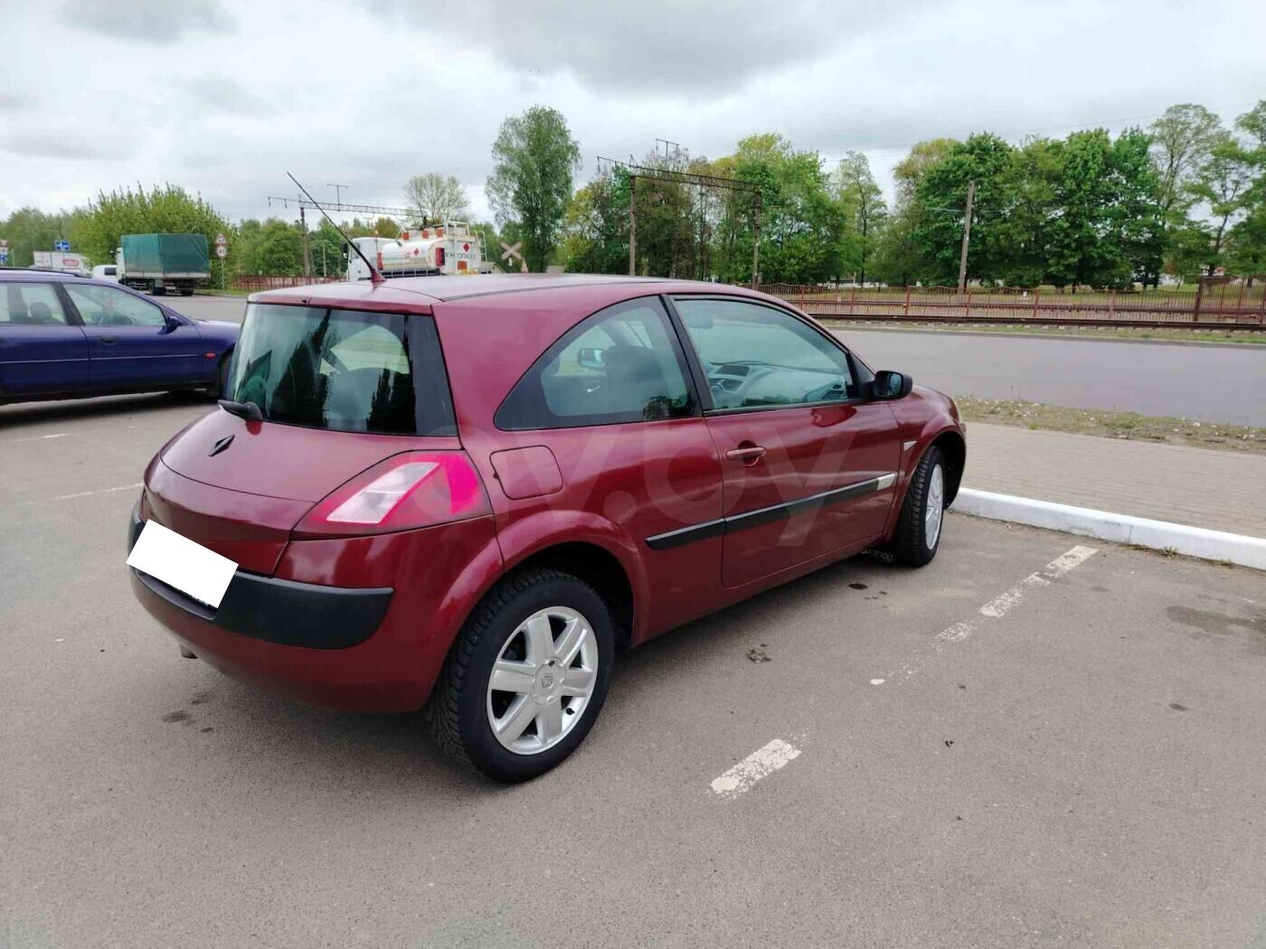Megane_2002-2006: (130, 272, 974, 777)
